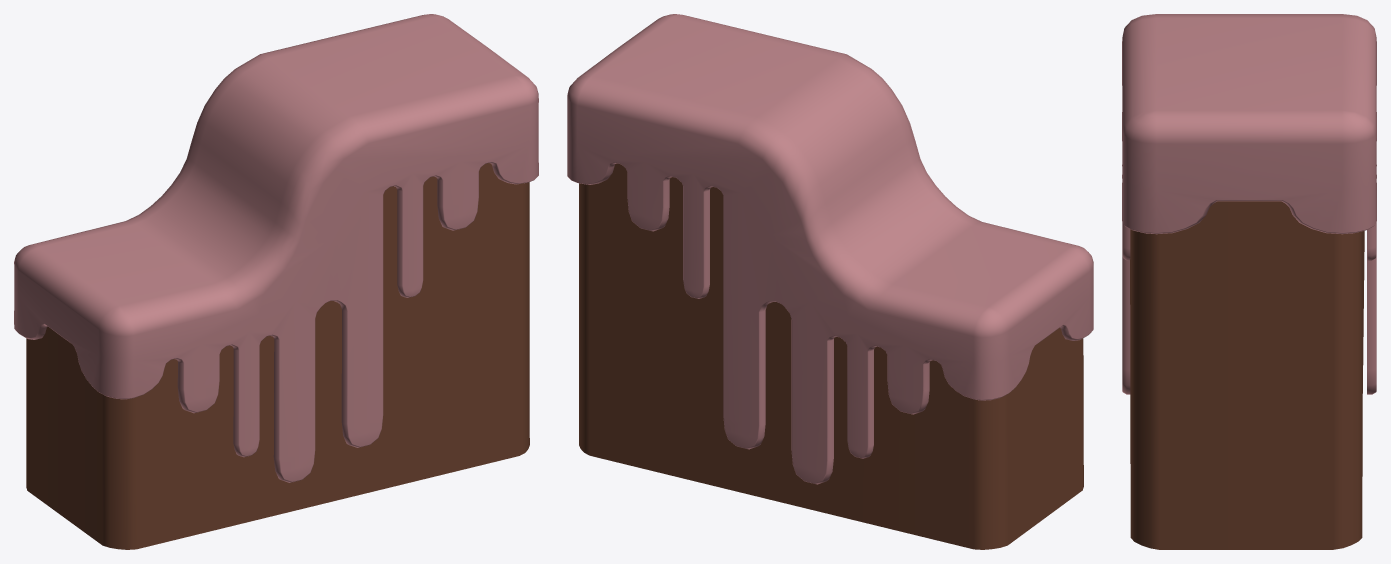
The model's file is SM_Hill.fbx.
3 renders of one model, left to right at view 1: azimuth 30°, elevation 25°; view 2: azimuth 150°, elevation 25°; view 3: azimuth 270°, elevation 25°, orthographic. The views are drawn at different scales.
Visible parts, largest first — view 1: SM_Hill; view 2: SM_Hill; view 3: SM_Hill.
Part boxes in pixels (x1=…): SM_Hill: x1=14, y1=14, x2=538, y2=549; SM_Hill: x1=567, y1=14, x2=1093, y2=549; SM_Hill: x1=1122, y1=14, x2=1376, y2=549.
Size of the model in its own units: 323 by 263 by 141.
